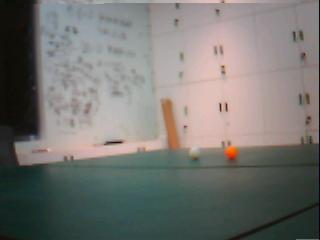oball: (224, 145, 238, 159)
